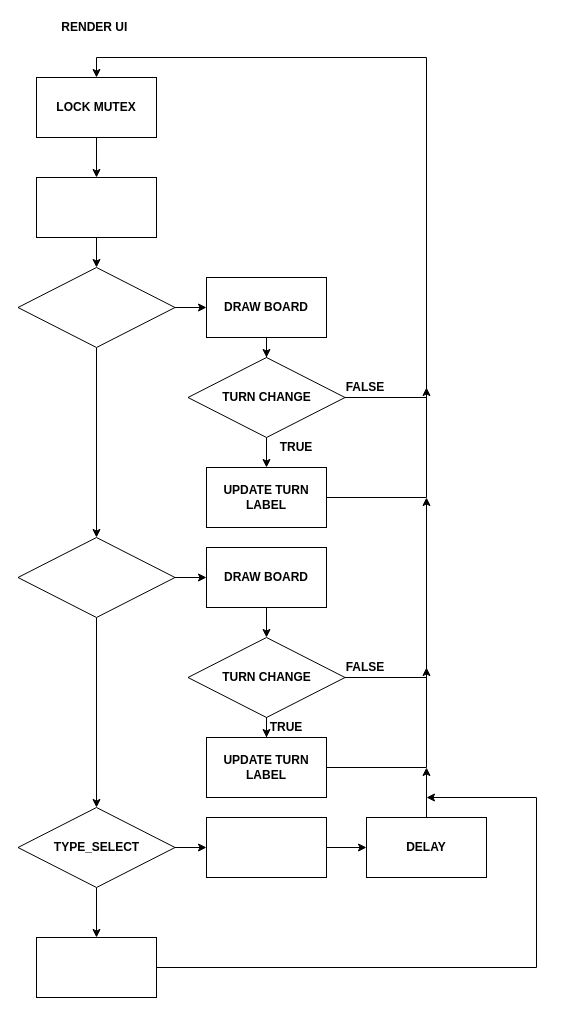
The diagram is 562 pixels wide and 1015 high, and some of its shapes have lost their labels. Here are the shapes that lost their labels. From the top down, the centre of each, then its label:
the point at 96,207: SWITCH STATE
the point at 96,307: JOIN_GAME
the point at 96,577: LOCAL GAME
the point at 266,847: UNLOCK MUTEX
the point at 96,967: RENDER CHOICE BUTTONS
